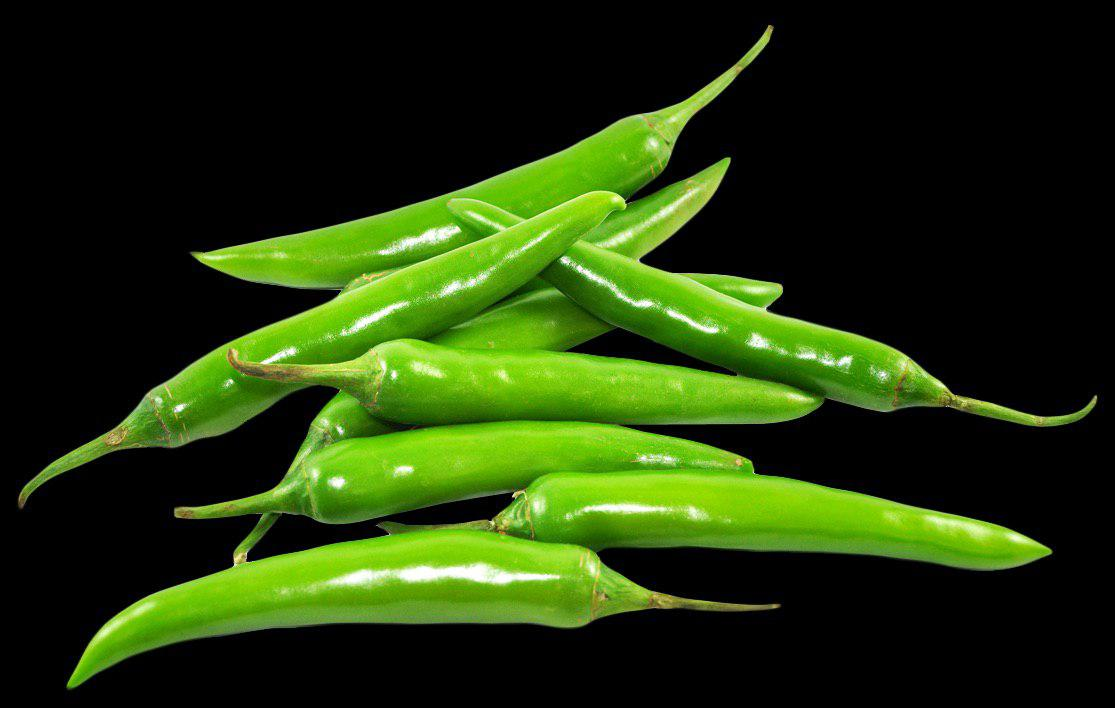lada hijau: (146, 193, 624, 452), (200, 75, 709, 292), (60, 515, 645, 703), (450, 245, 970, 448), (254, 412, 765, 536), (509, 462, 1080, 569), (347, 335, 830, 446)
